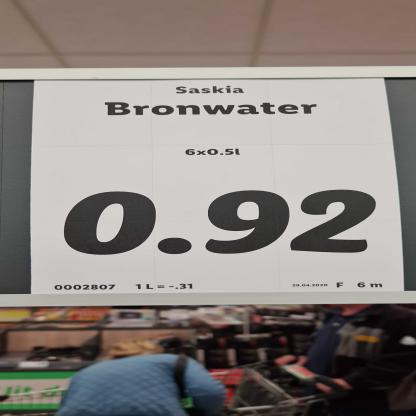prtg: (33, 79, 406, 295)
